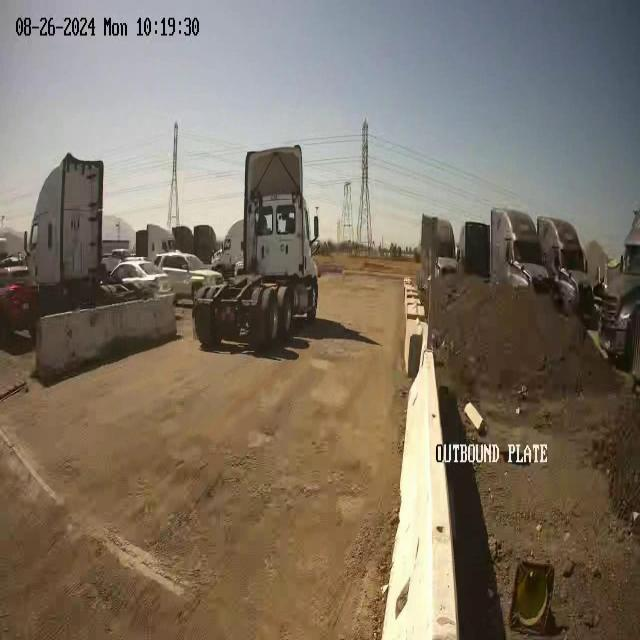BOBTAIL: (191, 143, 320, 351)
